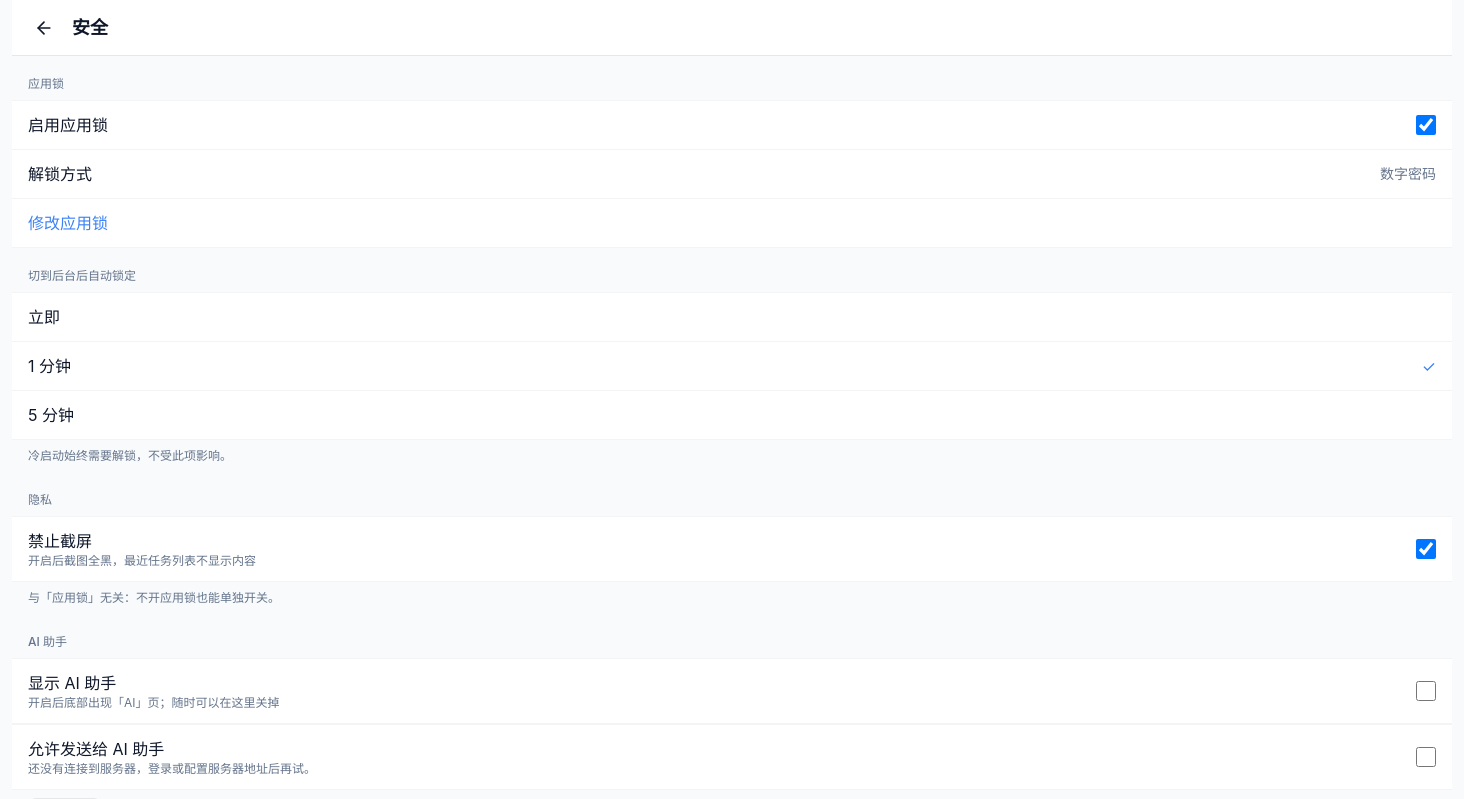
Scenario: SecurityPage › R34：关锁落盘失败时如实报错，且绝不让界面看起来像已关闭
What coordinates should you click on to do the following:
click the checkbox with test id "lock-enabled"
I would click on:
 (1426, 125)
Its box is [1416, 115, 1436, 135].
(page scrolled)
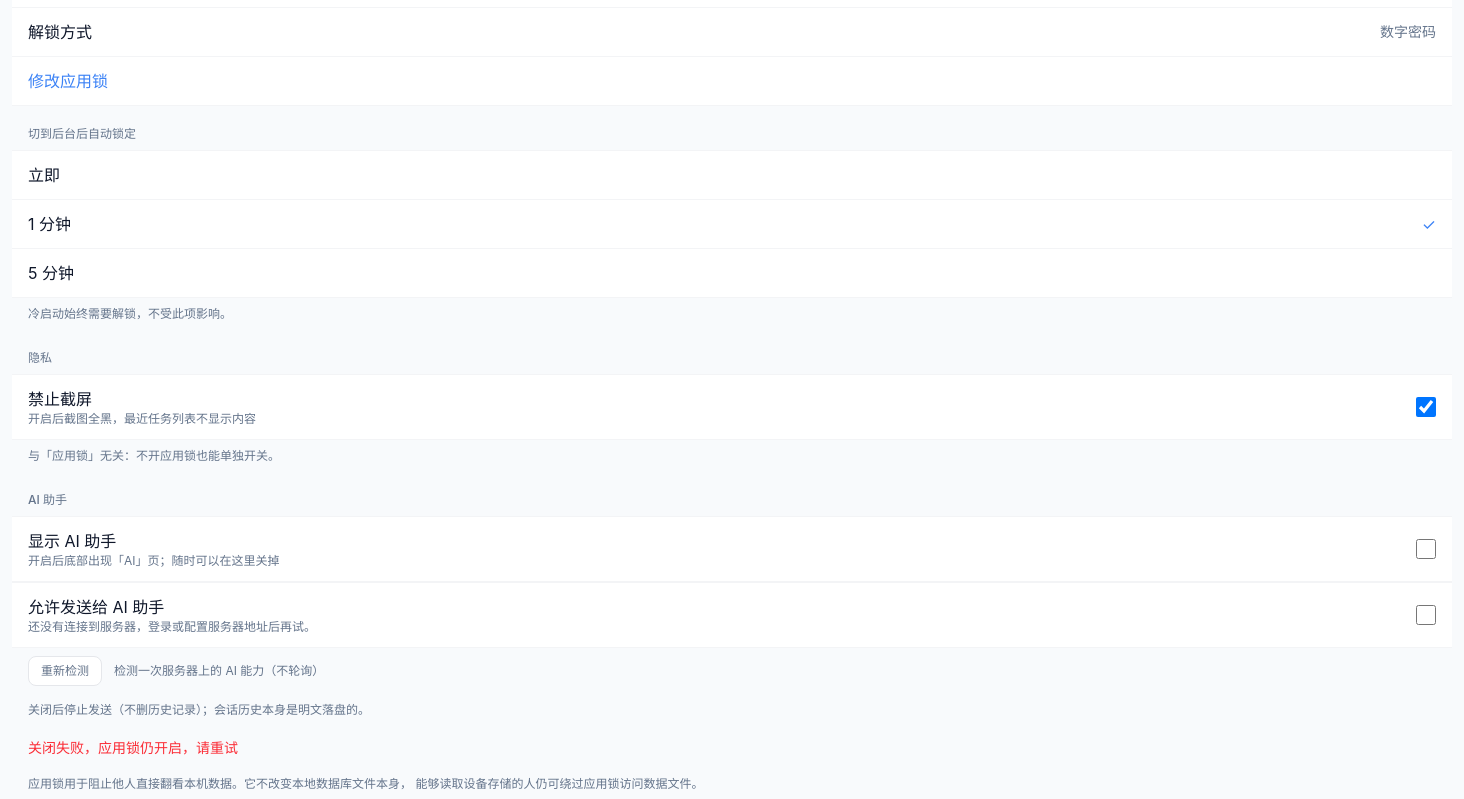
Now the message with test id "security-error" shows "关闭失败，应用锁仍开启", box [28, 739, 238, 756]
